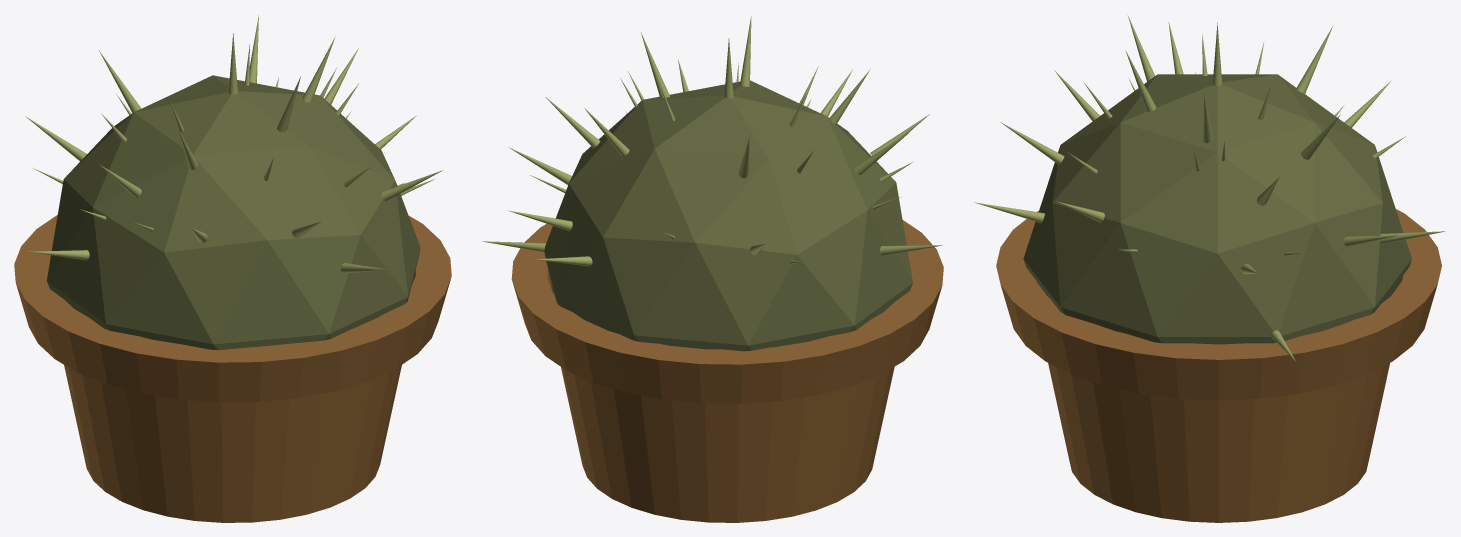
Rendered from Assets.fbx_Kaktus.fbx.
3 views of the same model, side by side, from view 1: azimuth 30°, elevation 25°; view 2: azimuth 150°, elevation 25°; view 3: azimuth 270°, elevation 25° (orthographic). The views are drawn at different scales.
Parts seen in each view (by area): view 1: Icosphere, Kaktus, Cone; view 2: Icosphere, Kaktus, Cone; view 3: Icosphere, Kaktus, Cone.
Part boxes in pixels (box(x1,y1,x2,y2)): Icosphere: box(47, 75, 420, 350); Kaktus: box(14, 215, 451, 522); Cone: box(25, 15, 442, 273); Icosphere: box(544, 80, 912, 351); Kaktus: box(511, 220, 943, 522); Cone: box(482, 16, 942, 266); Icosphere: box(1023, 74, 1411, 344); Kaktus: box(996, 209, 1441, 522); Cone: box(974, 16, 1445, 361).
Bounding box in the file's own units: 21.57 × 20.87 × 20.48.
